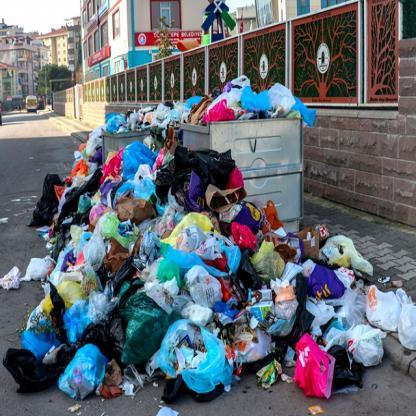Garbage: (3, 230, 166, 398), (284, 260, 416, 398), (167, 238, 280, 393), (292, 228, 378, 348), (107, 151, 209, 234), (41, 150, 102, 226), (204, 86, 315, 122), (136, 96, 206, 126), (86, 104, 134, 132)
